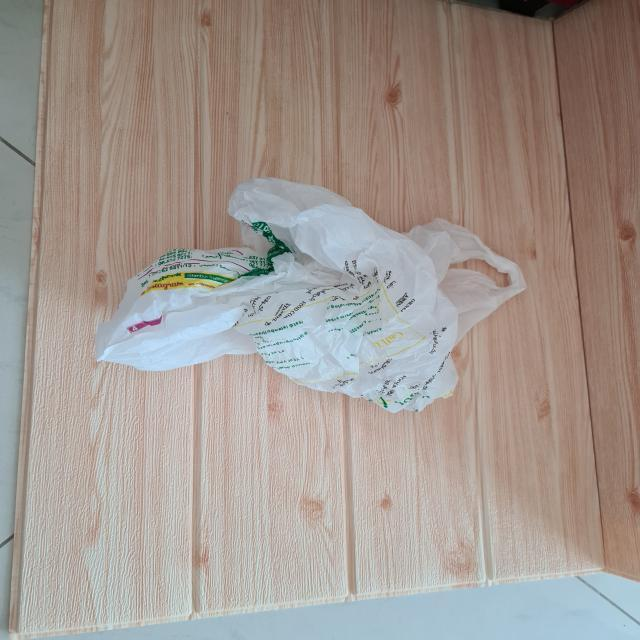Plastic_Bag: (100, 188, 543, 410)
